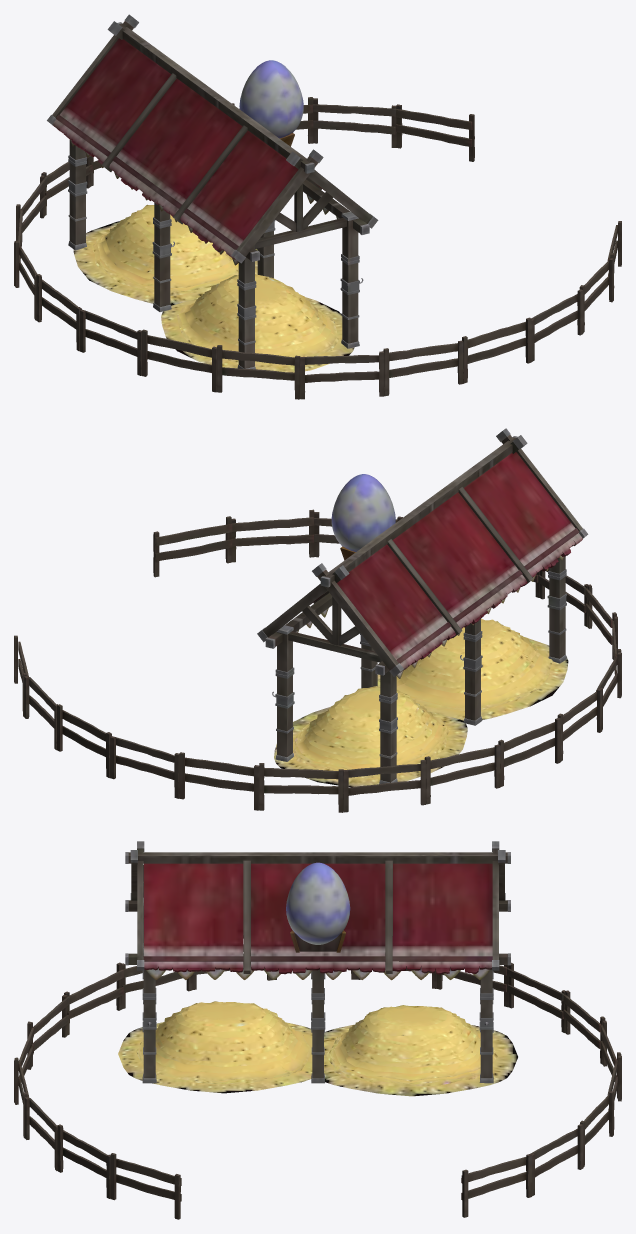
File: SM_MatingStation_fd115e.glb
3 views of the same model, one above another, from view 1: azimuth 30°, elevation 25°; view 2: azimuth 150°, elevation 25°; view 3: azimuth 270°, elevation 25° (orthographic).
Bounding box in the file's own units: 15.29 × 6.55 × 16.25.
2 materials, 2 textured.
